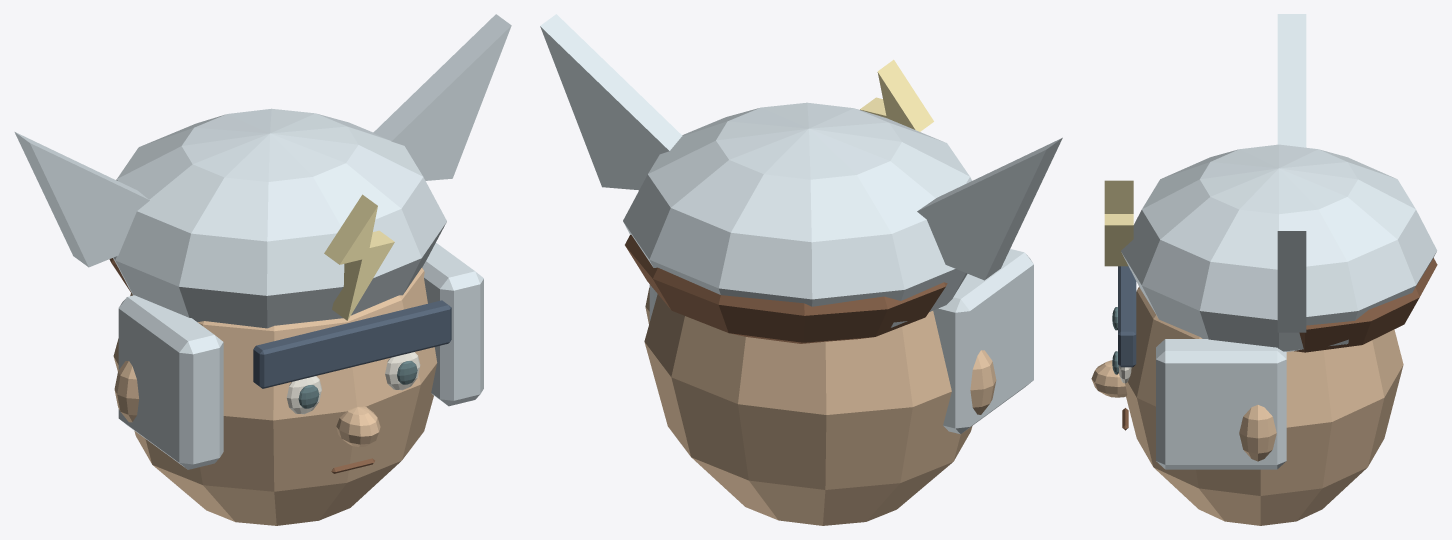
File: Storm_Peasant_Head.fbx
3 views of the same model, side by side, from view 1: azimuth 30°, elevation 25°; view 2: azimuth 150°, elevation 25°; view 3: azimuth 270°, elevation 25° (orthographic). The views are drawn at different scales.
Parts seen in each view (by area): view 1: Storm_Peasant_Head; view 2: Storm_Peasant_Head; view 3: Storm_Peasant_Head.
Part boxes in pixels (<box>): Storm_Peasant_Head: <box>14,14,511,525</box>; Storm_Peasant_Head: <box>540,14,1062,525</box>; Storm_Peasant_Head: <box>1091,14,1437,525</box>.
Size of the model in its own units: 98 by 82.2 by 66.08.
